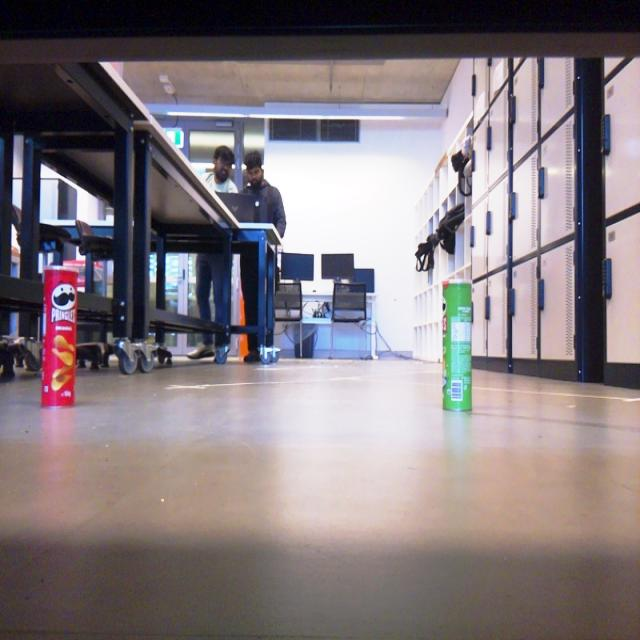greenpringles: (438, 272, 476, 421)
redpringles: (29, 247, 84, 417)
